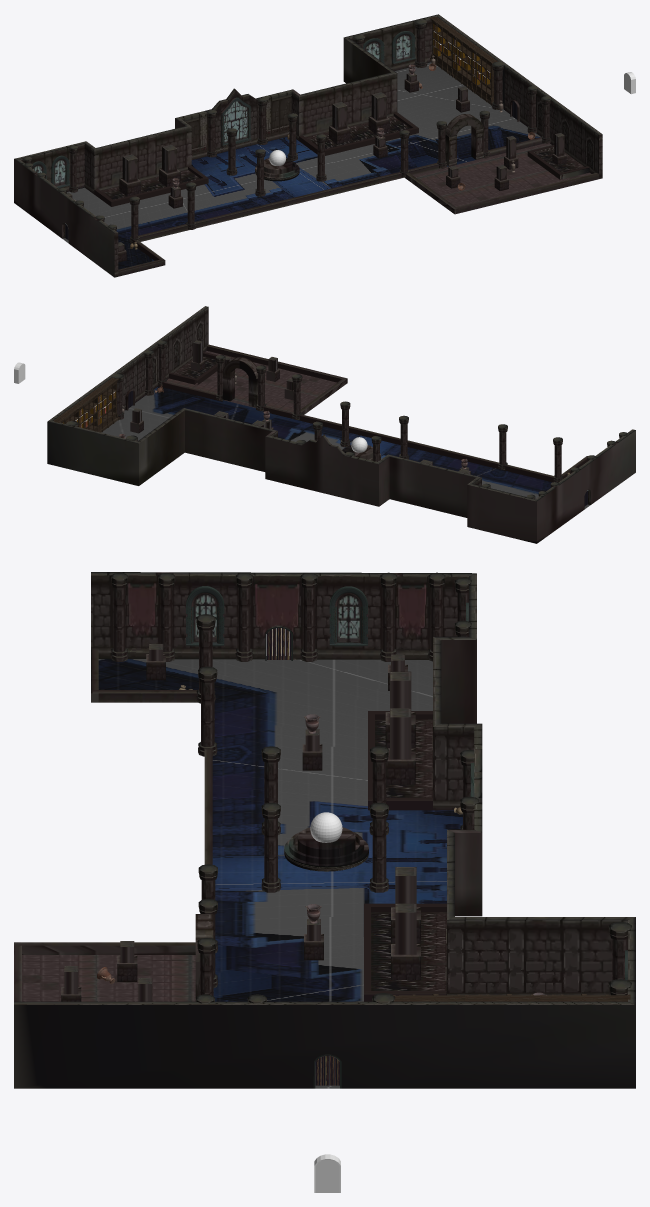
File: first level scene.fbx
3 renders of one model, top to bottom at view 1: azimuth 30°, elevation 25°; view 2: azimuth 150°, elevation 25°; view 3: azimuth 270°, elevation 25°, orthographic. The views are drawn at different scales.
Parts seen in each view (by area): view 1: Room, Floor, Cube.003, book1.003, book1.002, book1.001, Cube, Cube.015, Cube.017, Cube.009, Cylinder, Plane.013 (+14 smaller); view 2: Room, Floor, Cube.003, book1.003, book1.001, Plane.021, Plane.023, Plane.014, Plane.030, Plane.025, Plane.028, Plane.009; view 3: Room, Floor, Cylinder, Cube.017, Cube.009, Plane.019, Plane.030, Plane.023, Plane.011, Plane.016, Plane.010, Plane.007 (+12 smaller).
Part boxes in pixels (bbox=[...]): Room: bbox=[14, 14, 602, 277]; Floor: bbox=[63, 62, 591, 269]; Cube.003: bbox=[445, 114, 483, 166]; book1.003: bbox=[468, 46, 497, 105]; book1.002: bbox=[429, 16, 459, 77]; book1.001: bbox=[448, 32, 479, 92]; Cube: bbox=[119, 154, 140, 196]; Cube.015: bbox=[329, 102, 350, 143]; Cube.017: bbox=[368, 92, 389, 134]; Cube.009: bbox=[159, 144, 180, 186]; Cylinder: bbox=[255, 158, 299, 181]; Plane.013: bbox=[414, 19, 427, 67]; Room: bbox=[47, 306, 635, 543]; Floor: bbox=[101, 351, 590, 508]; Cube.003: bbox=[222, 357, 257, 407]; book1.003: bbox=[92, 377, 119, 432]; book1.001: bbox=[73, 391, 100, 432]; Plane.021: bbox=[292, 374, 302, 419]; Plane.023: bbox=[498, 424, 507, 469]; Plane.014: bbox=[553, 437, 562, 482]; Plane.030: bbox=[340, 401, 350, 447]; Plane.025: bbox=[399, 415, 408, 459]; Plane.028: bbox=[256, 365, 266, 411]; Plane.009: bbox=[144, 350, 153, 395]; Room: bbox=[14, 572, 635, 1088]; Floor: bbox=[14, 656, 462, 1088]; Cylinder: bbox=[284, 827, 368, 871]; Cube.017: bbox=[391, 903, 420, 979]; Cube.009: bbox=[386, 708, 415, 784]; Plane.019: bbox=[369, 802, 388, 892]; Plane.030: bbox=[261, 802, 280, 892]; Plane.023: bbox=[198, 666, 217, 756]; Plane.011: bbox=[235, 572, 252, 661]; Plane.016: bbox=[111, 572, 128, 661]; Plane.010: bbox=[300, 572, 317, 661]; Plane.007: bbox=[380, 572, 397, 661].
Bounding box in the file's own units: 3000 × 298 × 1468.
